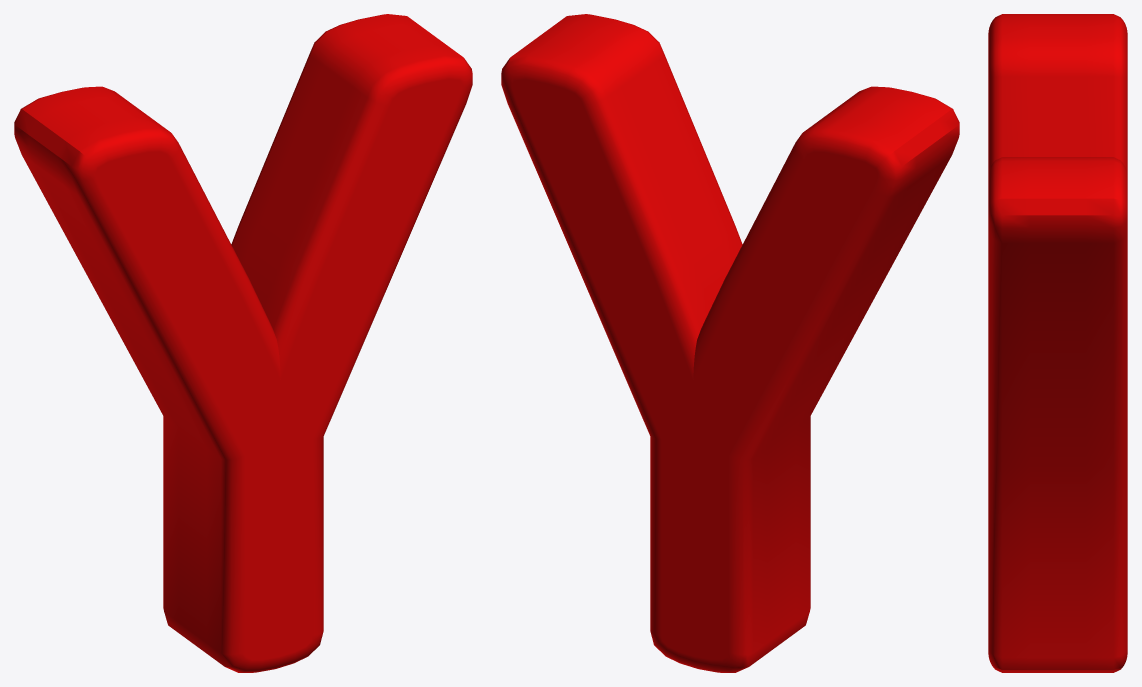
3 renders of one model, left to right at view 1: azimuth 30°, elevation 25°; view 2: azimuth 150°, elevation 25°; view 3: azimuth 270°, elevation 25°, orthographic.
Visible parts, largest first — view 1: Y; view 2: Y; view 3: Y.
Part boxes in pixels (<box>): Y: <box>14,14,472,672</box>; Y: <box>501,14,959,672</box>; Y: <box>988,14,1127,672</box>.
Bounding box in the file's own units: 8.15 × 11.15 × 2.5.
